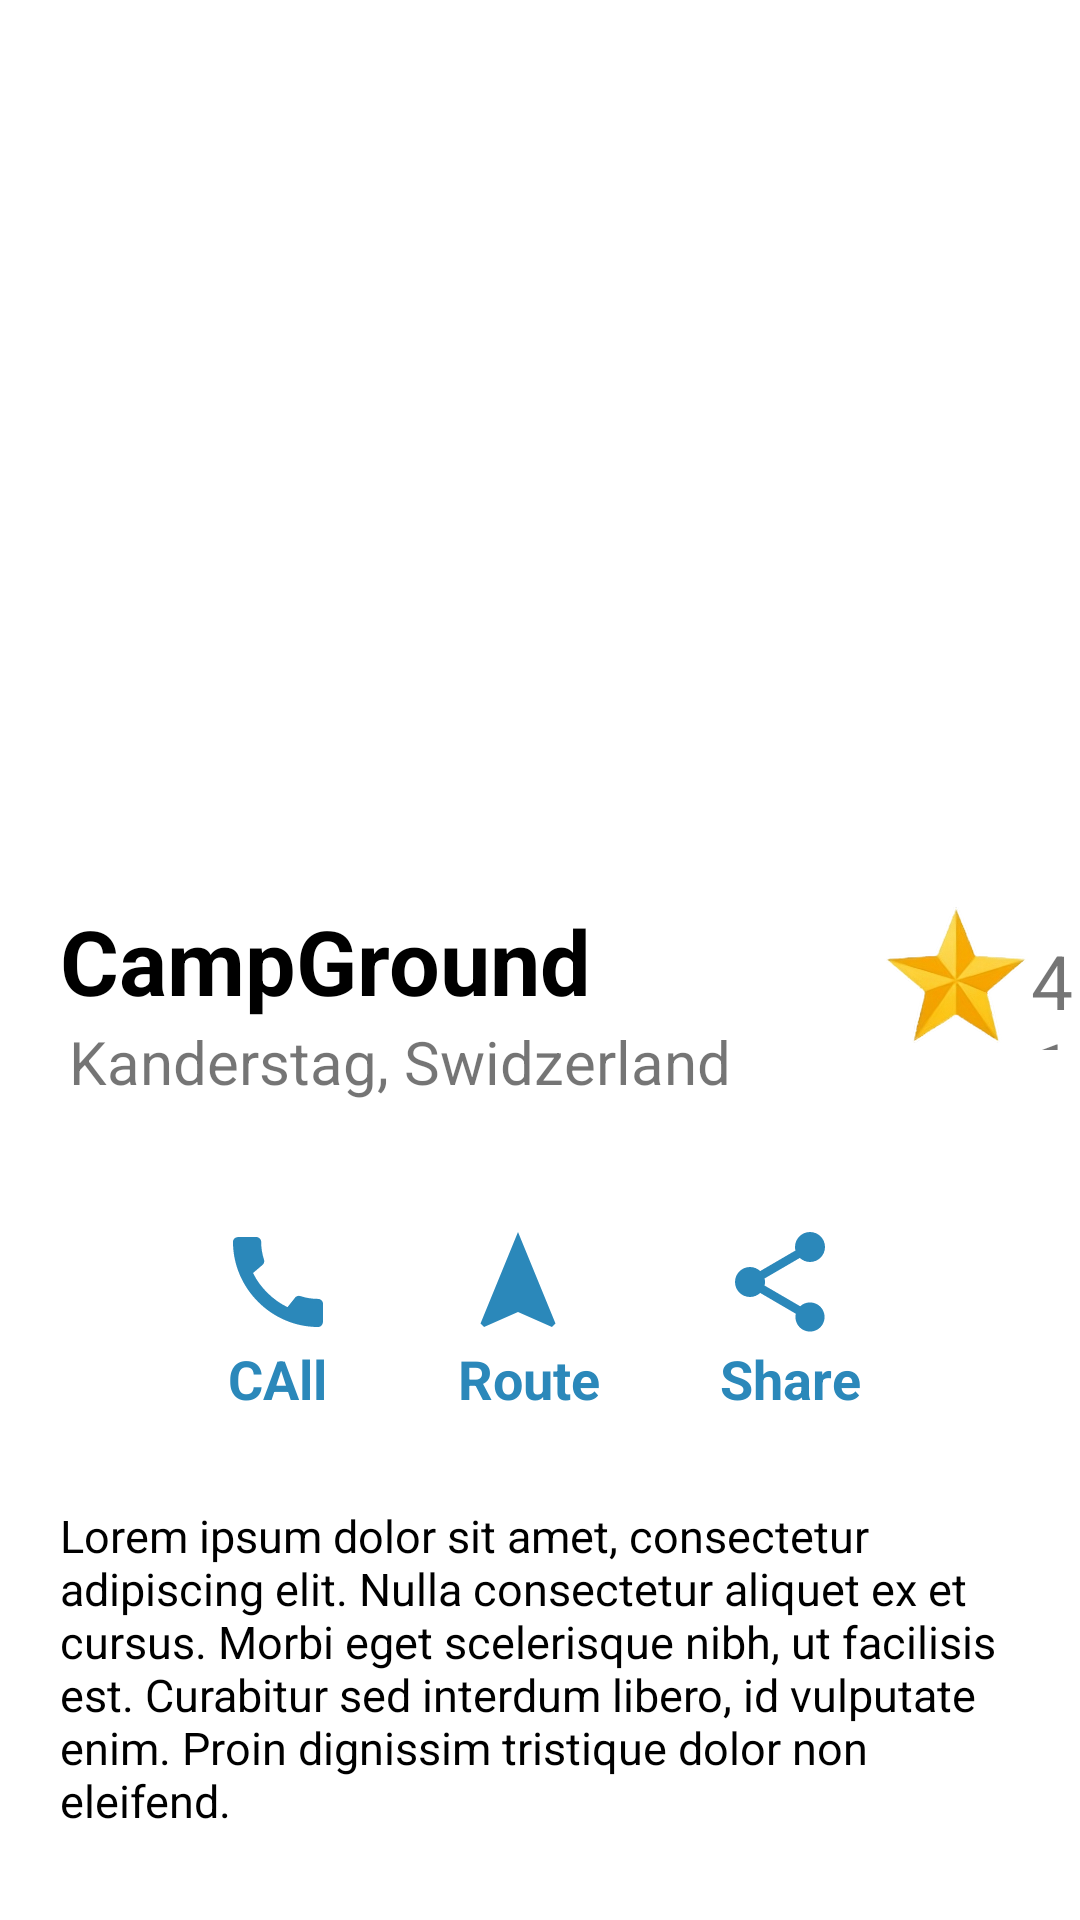

Point at icon controls on the screen. Image size 1080 × 1920, points as (x,y).
navigation: (518,1279)
star: (956,975)
